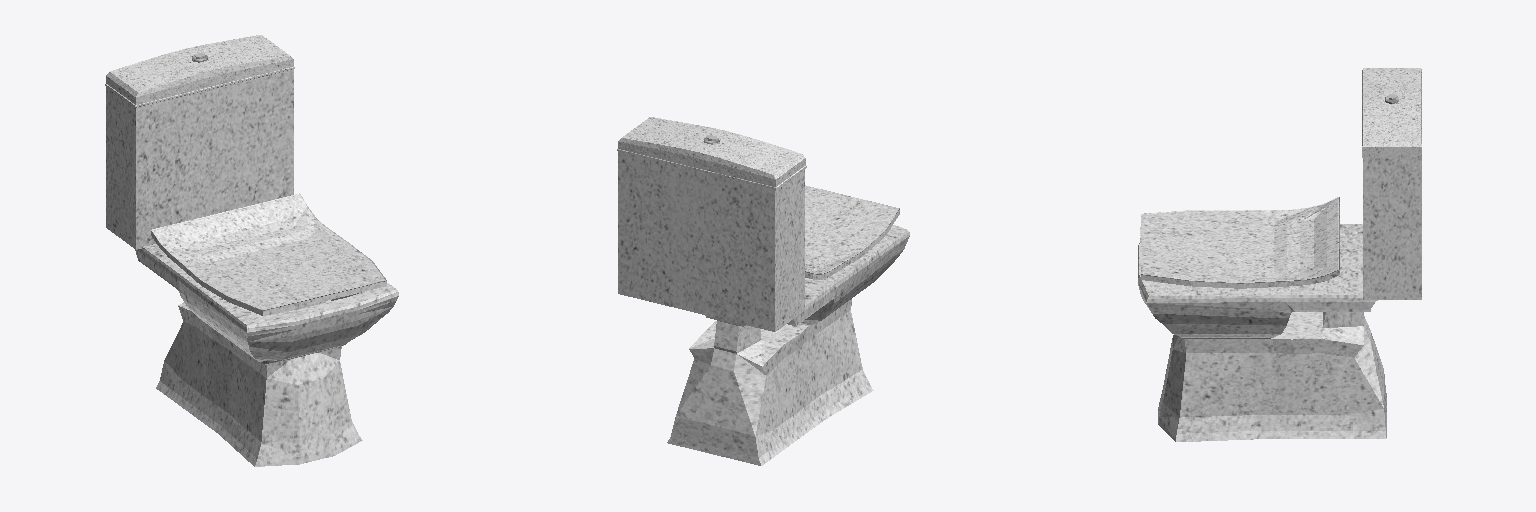
The picture shows the model from 3 angles: view 1: azimuth 30°, elevation 25°; view 2: azimuth 150°, elevation 25°; view 3: azimuth 270°, elevation 25°; orthographic projection.
Parts seen in each view (by area): view 1: Wc1:en_son_001, Wc1:Box005, Wc1:ust_kapak001, Wc1:suluk001; view 2: Wc1:Box005, Wc1:en_son_001, Wc1:suluk001, Wc1:ust_kapak001; view 3: Wc1:en_son_001, Wc1:ust_kapak001, Wc1:Box005, Wc1:suluk001.
Boxes of the visible parts, x1=… form: Wc1:en_son_001: x1=135, y1=244, x2=398, y2=466; Wc1:Box005: x1=106, y1=71, x2=293, y2=249; Wc1:ust_kapak001: x1=151, y1=193, x2=386, y2=315; Wc1:suluk001: x1=105, y1=35, x2=294, y2=108; Wc1:Box005: x1=618, y1=151, x2=804, y2=331; Wc1:en_son_001: x1=667, y1=225, x2=909, y2=465; Wc1:suluk001: x1=617, y1=117, x2=806, y2=190; Wc1:ust_kapak001: x1=805, y1=185, x2=899, y2=279; Wc1:en_son_001: x1=1138, y1=224, x2=1386, y2=441; Wc1:ust_kapak001: x1=1140, y1=197, x2=1339, y2=288; Wc1:Box005: x1=1363, y1=157, x2=1421, y2=299; Wc1:suluk001: x1=1362, y1=68, x2=1421, y2=157.
Size of the model in its own units: 17.02 by 32.66 by 26.38.
Materials: 2 (2 with a texture image).